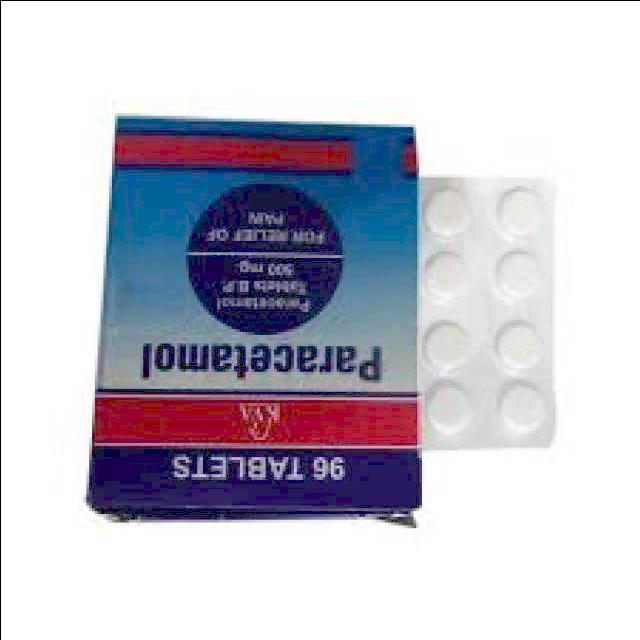authentic: (78, 92, 429, 532), (416, 172, 566, 457)
